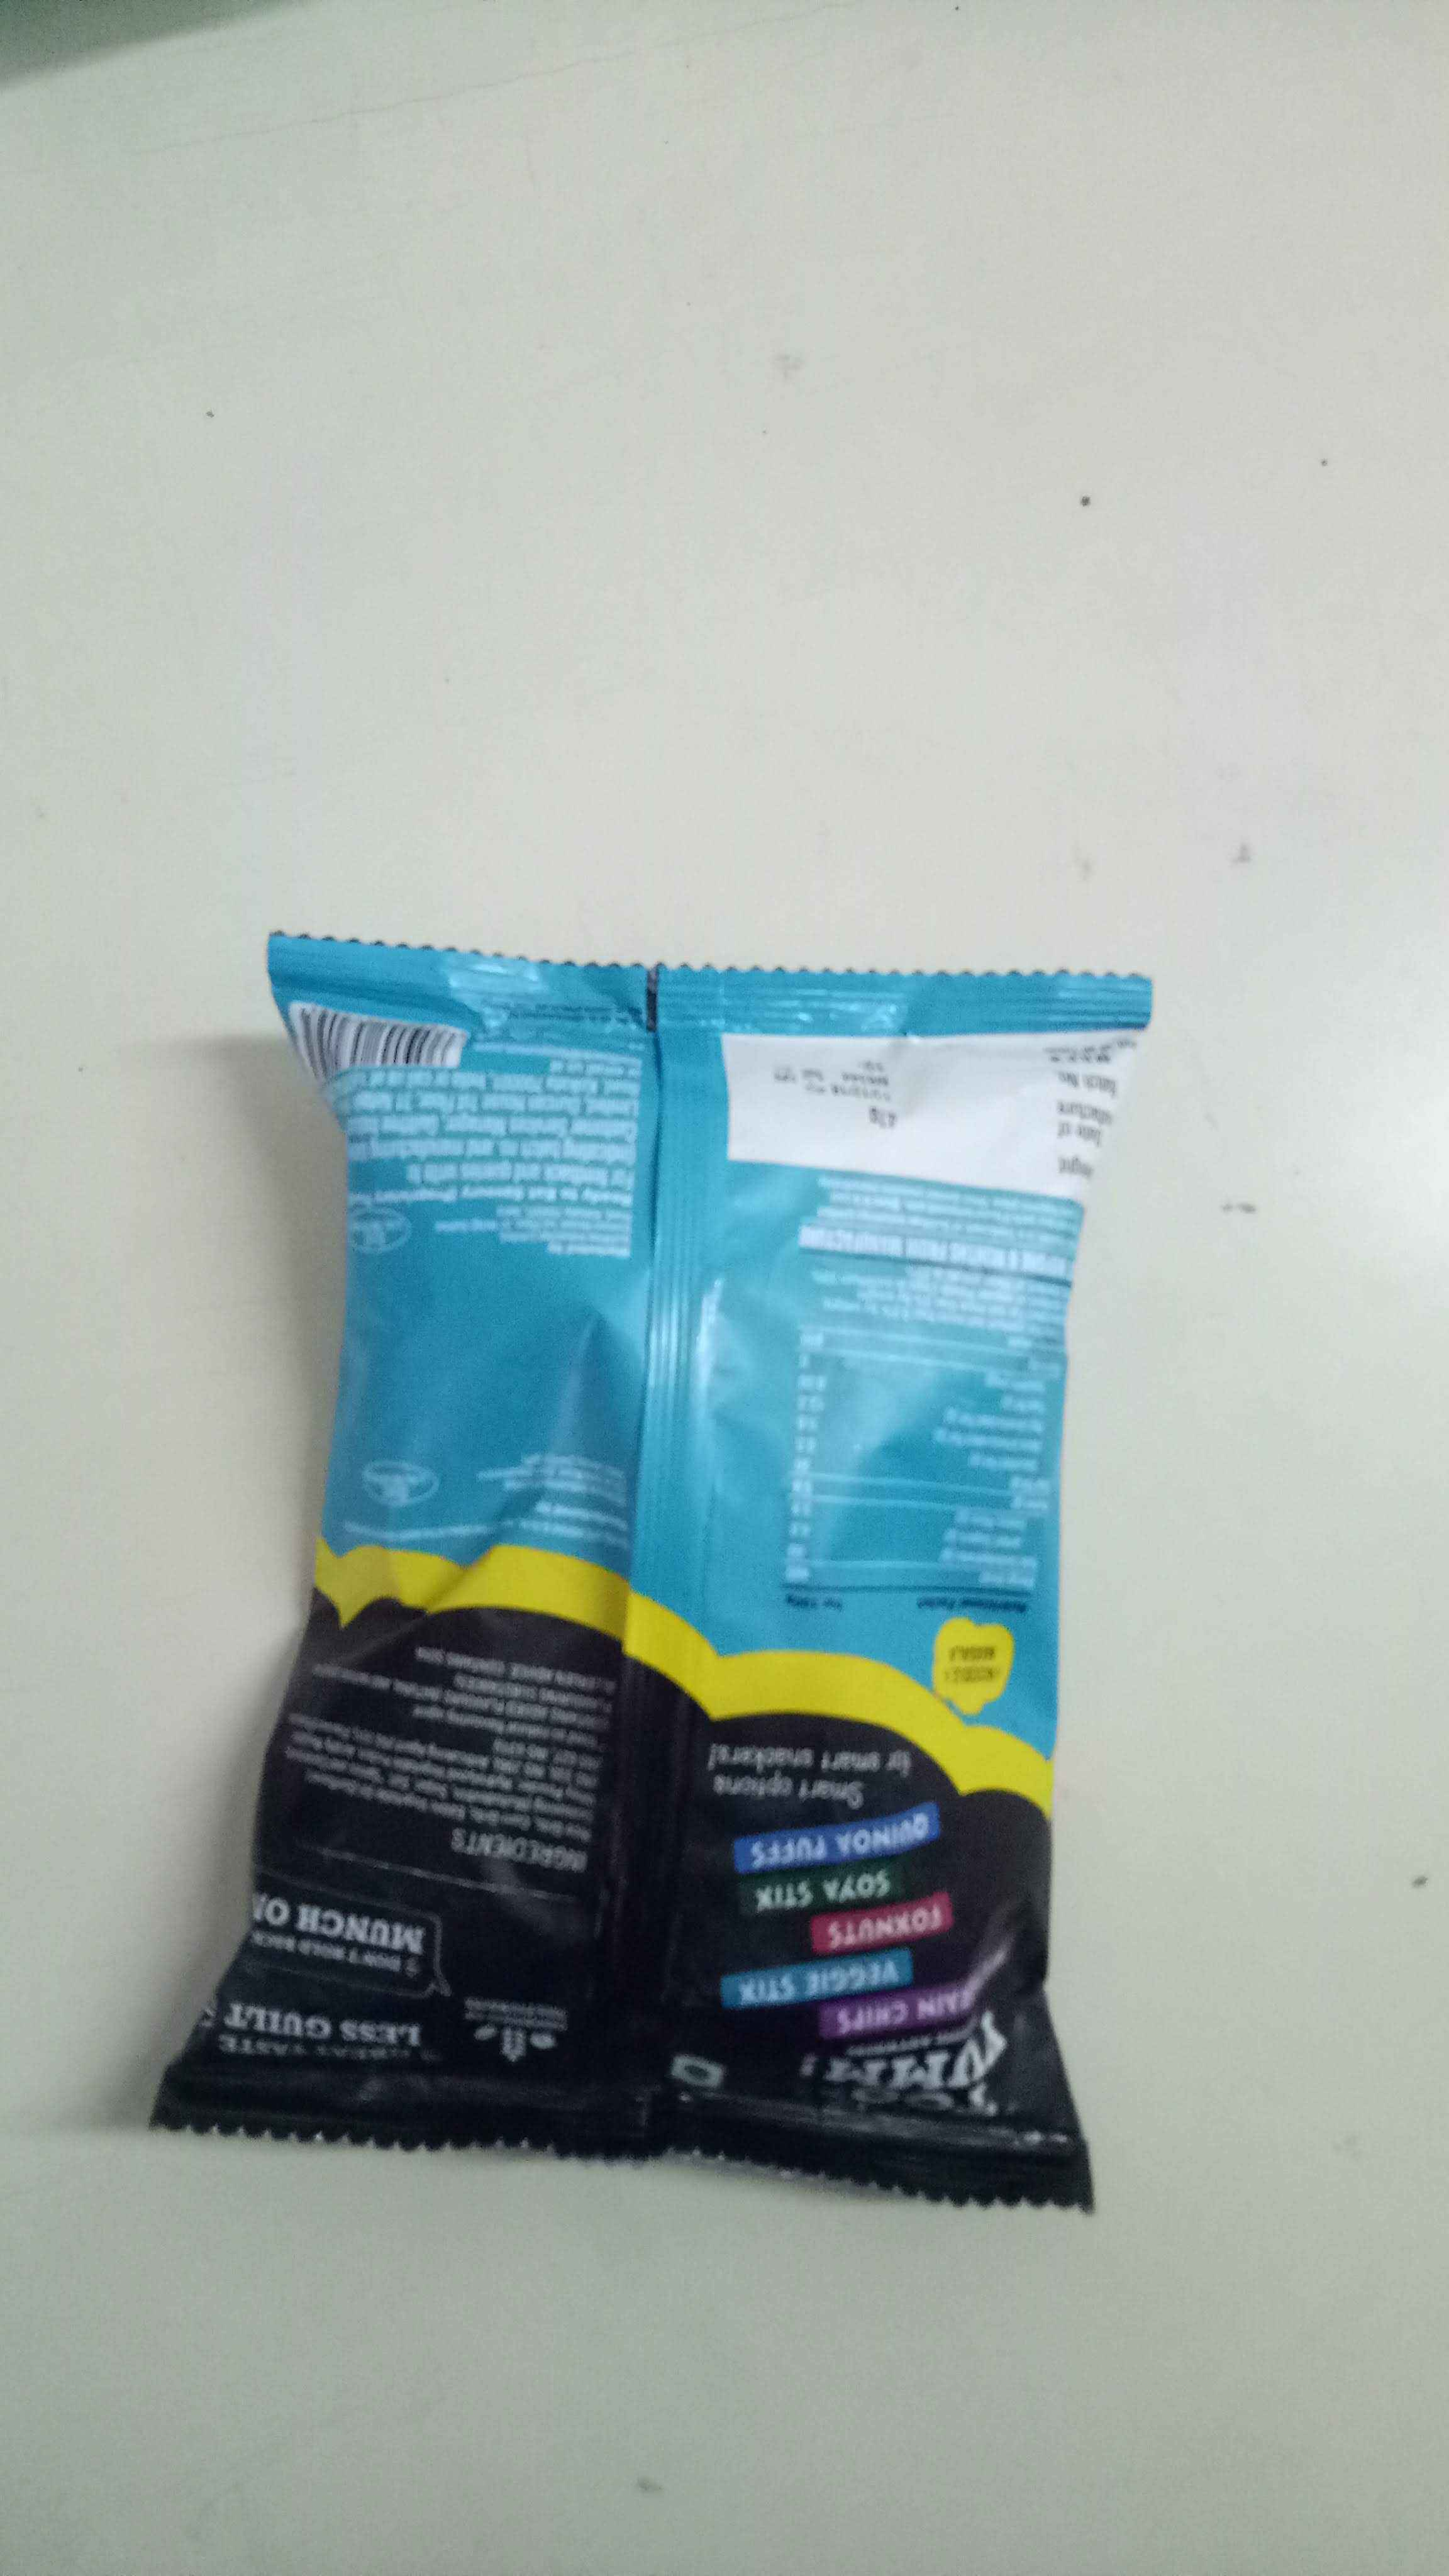tooyumm: (745, 2001, 1039, 2146)
